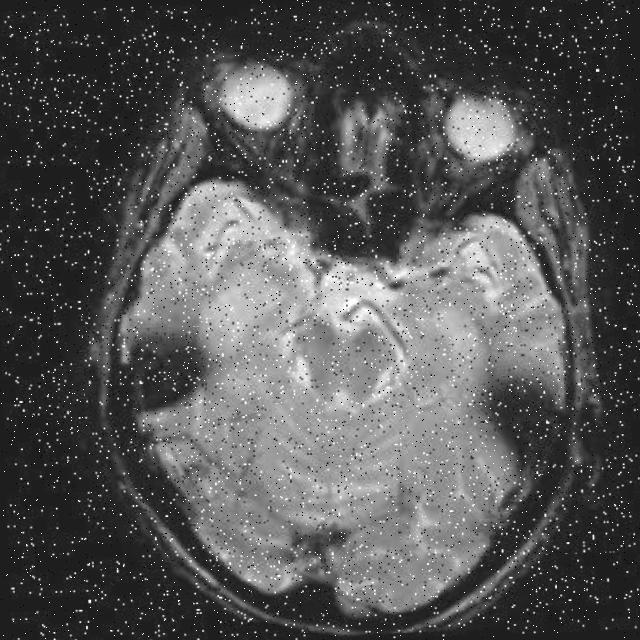CN: (441, 332, 577, 483)
LMCI: (92, 307, 234, 437)
